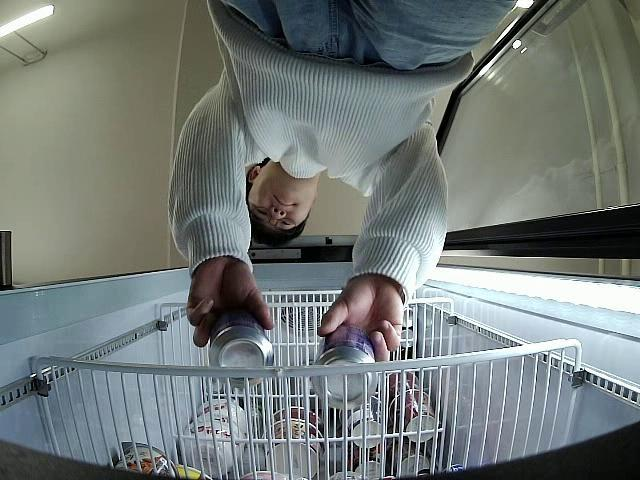14_welchsGrape: (312, 327, 380, 408), (208, 313, 273, 388)
